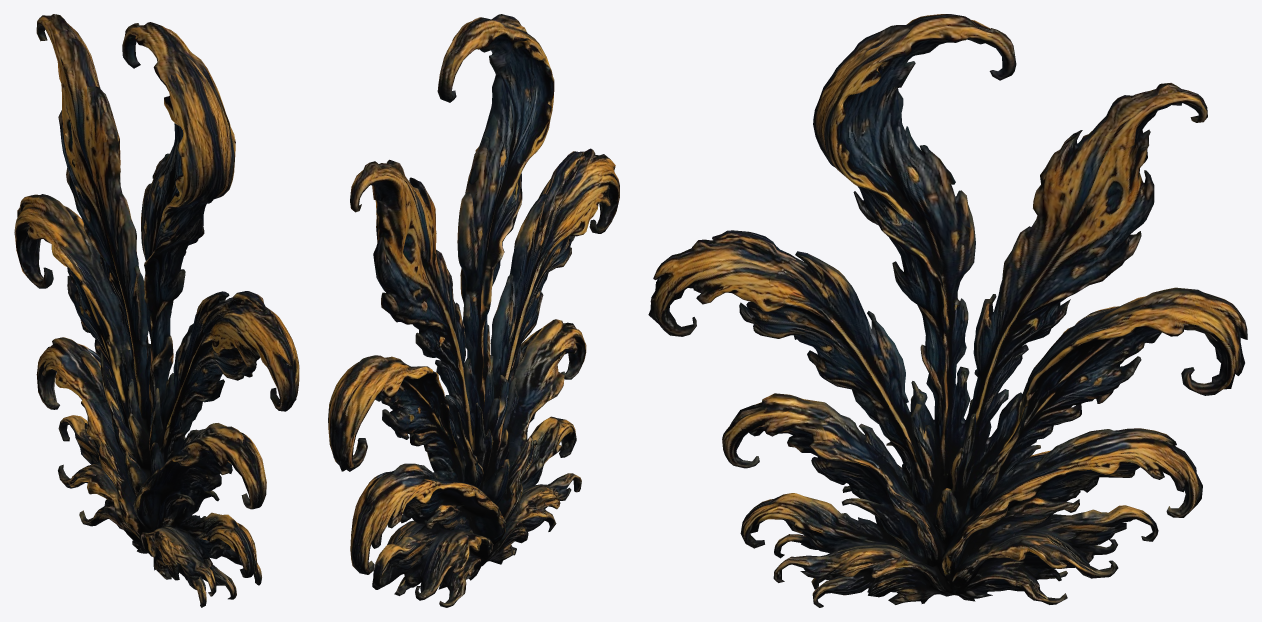
File: ornamental+plant+3d+model+1k.glb
The picture shows the model from 3 angles, left to right: view 1: azimuth 30°, elevation 25°; view 2: azimuth 150°, elevation 25°; view 3: azimuth 270°, elevation 25°; orthographic projection. The views are drawn at different scales.
Visible parts, largest first — view 1: tripo_node_9137d525-7ab2-463c-b604-5bf10a8ee103; view 2: tripo_node_9137d525-7ab2-463c-b604-5bf10a8ee103; view 3: tripo_node_9137d525-7ab2-463c-b604-5bf10a8ee103.
Part boxes in pixels (x1,y1,x2,y2): tripo_node_9137d525-7ab2-463c-b604-5bf10a8ee103: (14,14,299,607); tripo_node_9137d525-7ab2-463c-b604-5bf10a8ee103: (328,14,619,607); tripo_node_9137d525-7ab2-463c-b604-5bf10a8ee103: (648,14,1247,607).
Size of the model in its own units: 0.1515 by 1 by 0.9286.
Materials: 1 (1 with a texture image).
